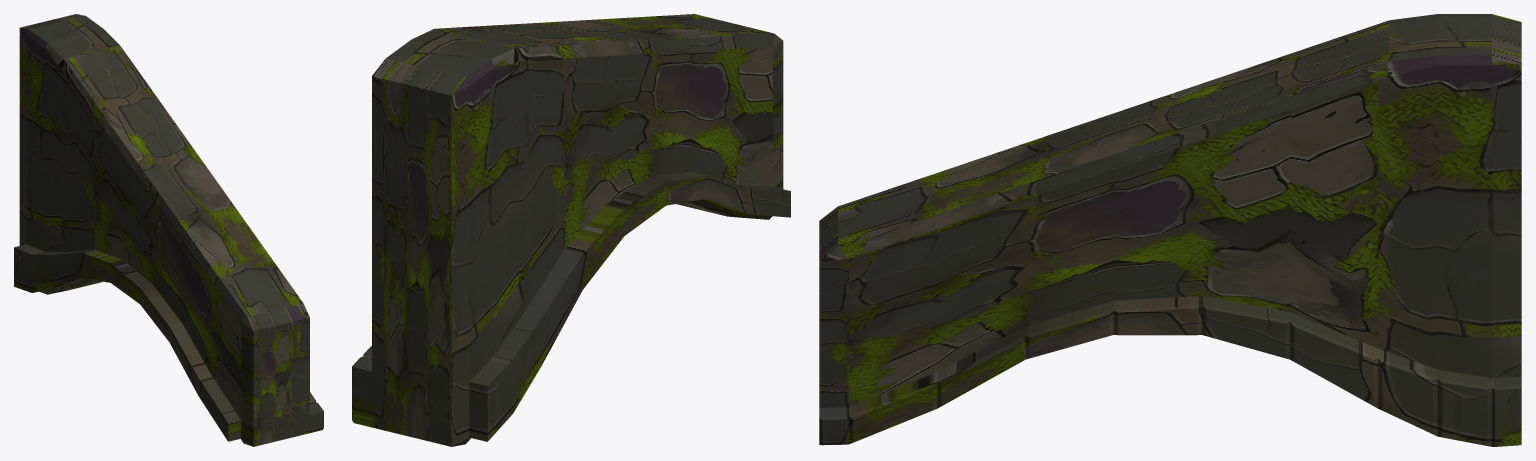
The model's file is stiars part 5 .fbx.
3 views of the same model, side by side, from view 1: azimuth 30°, elevation 25°; view 2: azimuth 150°, elevation 25°; view 3: azimuth 270°, elevation 25° (orthographic). The views are drawn at different scales.
Parts seen in each view (by area): view 1: Cube.007; view 2: Cube.007; view 3: Cube.007.
Boxes of the visible parts, bbox=[...] form: Cube.007: bbox=[14, 14, 323, 446]; Cube.007: bbox=[352, 14, 790, 446]; Cube.007: bbox=[819, 14, 1521, 446].
Bounding box in the file's own units: 44.01 × 122 × 200.
